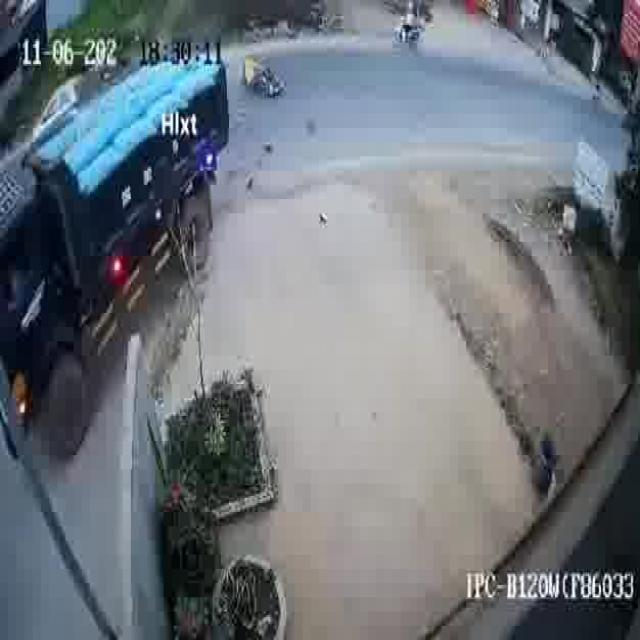multiple_accident: (239, 52, 287, 110)
